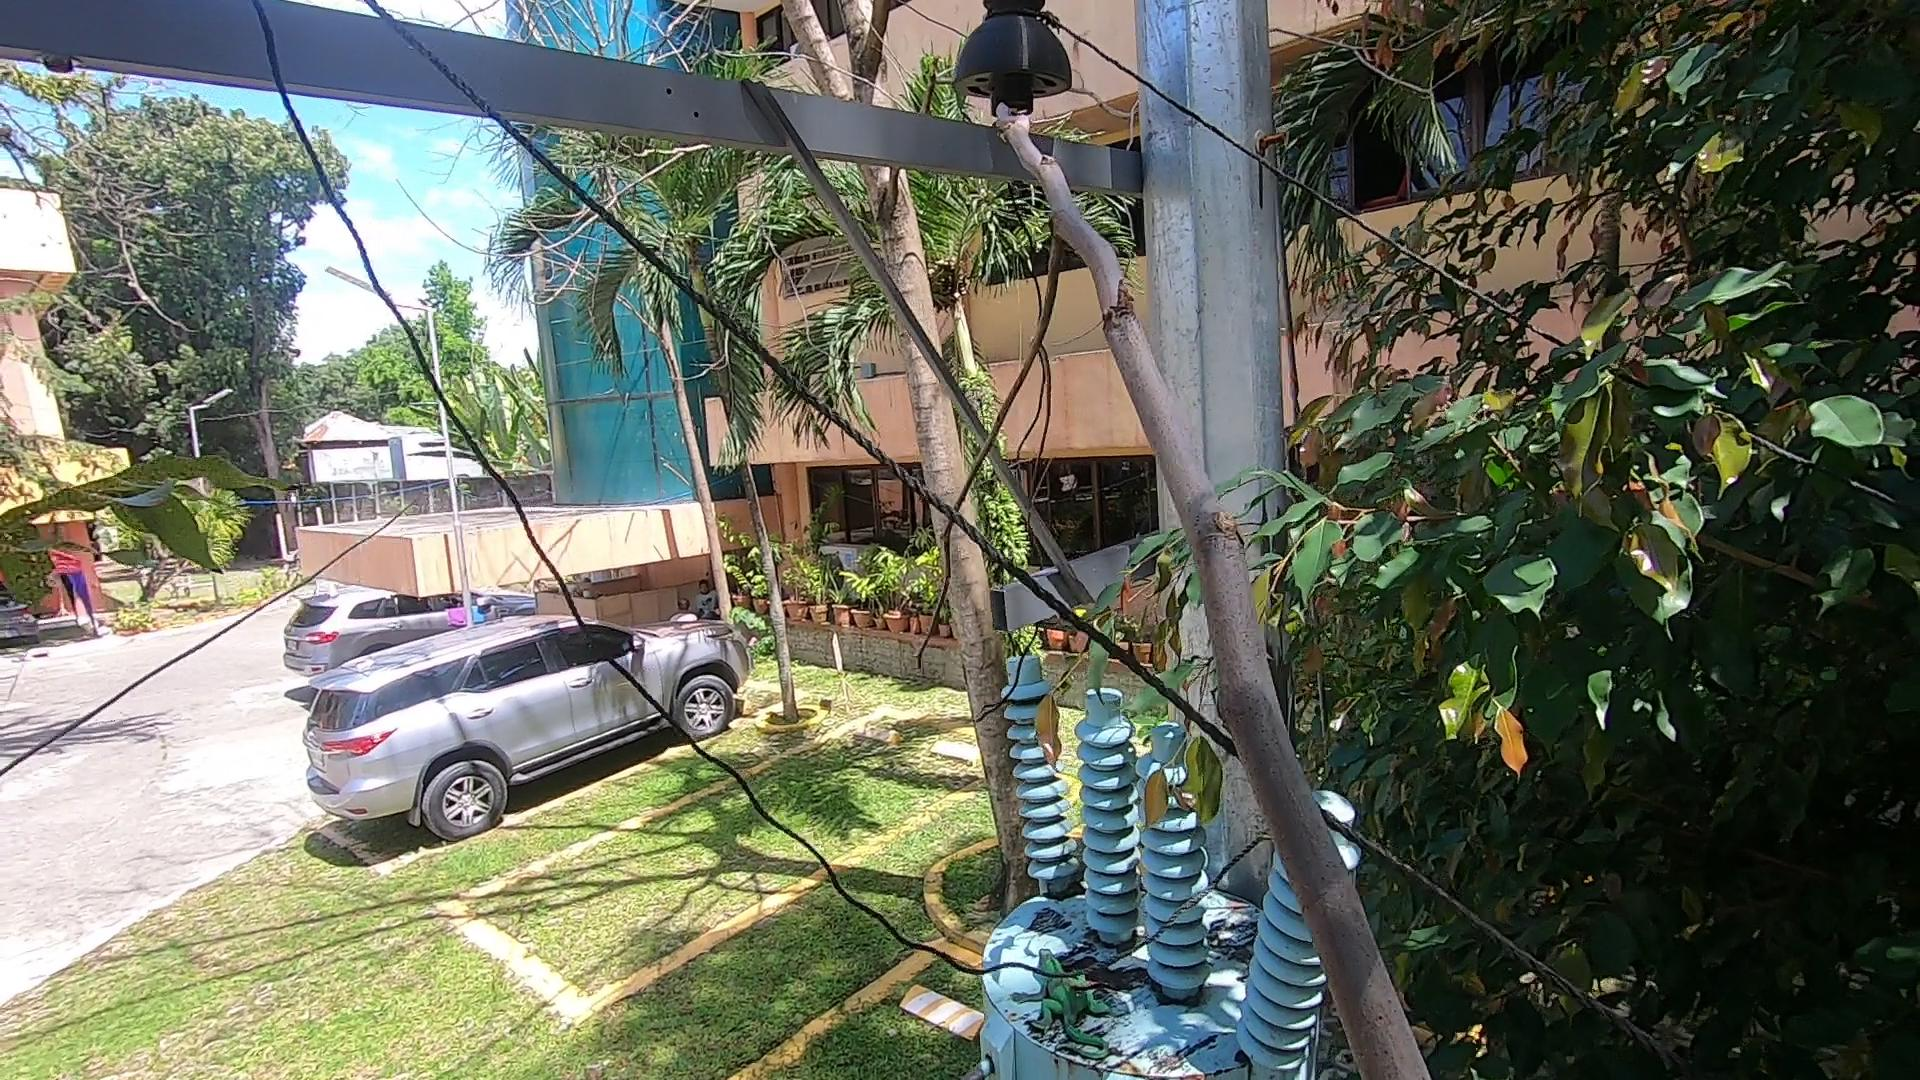branch with leaves: (1022, 527, 1270, 808)
leaf: (1043, 934, 1156, 996), (1211, 913, 1265, 971), (1040, 882, 1089, 907)
tree branch: (989, 99, 1466, 1080)
